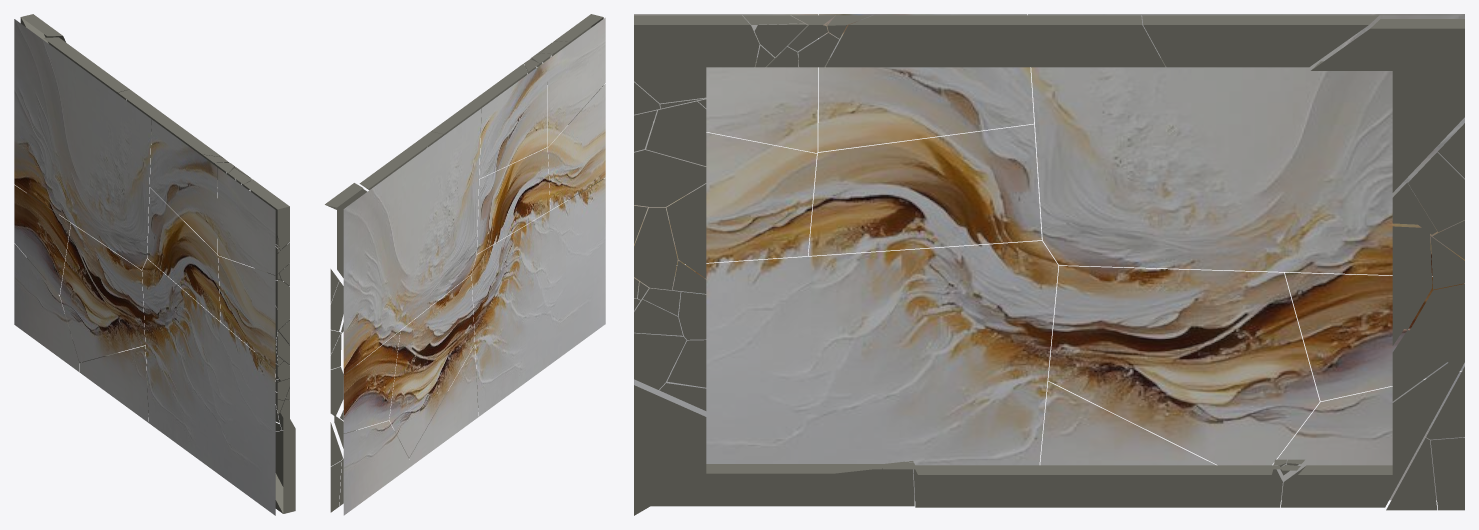
The model's file is painting_real2.glb.
3 renders of one model, left to right at view 1: azimuth 30°, elevation 25°; view 2: azimuth 150°, elevation 25°; view 3: azimuth 270°, elevation 25°, orthographic. The views are drawn at different scales.
Visible parts, largest first — view 1: Plane.007_cell.002, Plane.007_cell.001, Plane.007_cell.003_cell.001, Plane.007_cell_cell.002, Plane.007_cell_cell.001, Plane.007_cell_cell.003, Plane.007_cell_cell, Plane.007_cell.003_cell, Plane.007_cell.003_cell.002, Plane.007_cell.003_cell.003, Plane.002_cell.008, Plane.002_cell.004 (+5 smaller); view 2: Plane.007_cell.002, Plane.007_cell.001, Plane.007_cell.003_cell.001, Plane.007_cell_cell.002, Plane.007_cell_cell.001, Plane.007_cell_cell.003, Plane.007_cell_cell, Plane.007_cell.003_cell, Plane.007_cell.003_cell.002, Plane.007_cell.003_cell.003, Plane.002_cell.004, Plane.002_cell.012 (+6 smaller); view 3: Plane.007_cell.001, Plane.007_cell.002, Plane.007_cell.003_cell.001, Plane.007_cell_cell.001, Plane.002_cell.004, Plane.002_cell.008, Plane.007_cell_cell.002, Plane.002_cell.005, Plane.007_cell_cell.003, Plane.002_cell.002, Plane.007_cell.003_cell.002, Plane.002_cell.012 (+24 smaller).
Boxes of the visible parts, x1,y1,x2,y2 form: Plane.007_cell.002: [14, 19, 151, 269]; Plane.007_cell.001: [142, 259, 275, 515]; Plane.007_cell.003_cell.001: [60, 223, 145, 362]; Plane.007_cell_cell.002: [149, 120, 217, 253]; Plane.007_cell_cell.001: [147, 187, 220, 321]; Plane.007_cell_cell.003: [218, 256, 275, 369]; Plane.007_cell_cell: [217, 168, 275, 275]; Plane.007_cell.003_cell: [14, 243, 79, 371]; Plane.007_cell.003_cell.002: [14, 185, 70, 295]; Plane.007_cell.003_cell.003: [79, 346, 148, 422]; Plane.002_cell.008: [275, 412, 295, 513]; Plane.002_cell.004: [118, 89, 226, 186]; Plane.007_cell.002: [343, 109, 481, 374]; Plane.007_cell.001: [471, 178, 605, 416]; Plane.007_cell.003_cell.001: [389, 274, 474, 457]; Plane.007_cell_cell.002: [479, 60, 547, 178]; Plane.007_cell_cell.001: [477, 147, 550, 253]; Plane.007_cell_cell.003: [548, 84, 605, 209]; Plane.007_cell_cell: [547, 17, 605, 147]; Plane.007_cell.003_cell: [343, 421, 408, 515]; Plane.007_cell.003_cell.002: [343, 331, 400, 433]; Plane.007_cell.003_cell.003: [409, 345, 478, 467]; Plane.002_cell.004: [427, 63, 527, 147]; Plane.002_cell.012: [359, 131, 442, 190]; Plane.007_cell.001: [634, 241, 1058, 500]; Plane.007_cell.002: [1027, 14, 1464, 276]; Plane.007_cell.003_cell.001: [1048, 266, 1319, 465]; Plane.007_cell_cell.001: [808, 124, 1041, 255]; Plane.002_cell.004: [826, 15, 1165, 67]; Plane.002_cell.008: [634, 385, 914, 515]; Plane.007_cell_cell.002: [818, 14, 1033, 151]; Plane.002_cell.005: [913, 465, 1282, 507]; Plane.007_cell_cell.003: [634, 122, 816, 264]; Plane.002_cell.002: [1311, 19, 1464, 192]; Plane.007_cell.003_cell.002: [1285, 272, 1464, 401]; Plane.002_cell.012: [1142, 15, 1378, 67].
Size of the model in its own units: 0.2344 by 3.1 by 4.8.
Materials: 2 (1 with a texture image).
